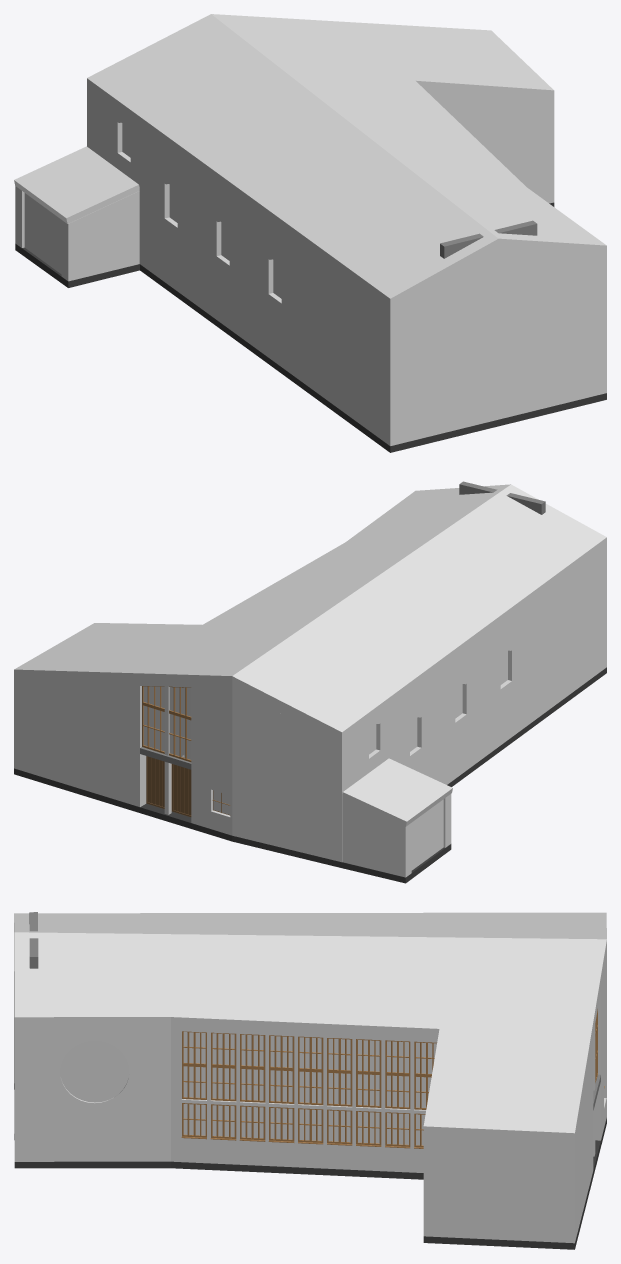
The model's file is Bethlehemskirche Modell Blender_03_FBX.fbx.
3 renders of one model, top to bottom at view 1: azimuth 30°, elevation 25°; view 2: azimuth 150°, elevation 25°; view 3: azimuth 270°, elevation 25°, orthographic. The views are drawn at different scales.
Visible parts, largest first — view 1: Kirchenwände.001, Kirchenwände.002, Cube.008, Cube.006, Fußboden Stein, Cube.009, Gemälde; view 2: Kirchenwände.002, Kirchenwände.001, Fußboden Stein, Cube.008, Cube.004, Glaswände.004, Stütze Portal.001, Cube.009, Glaswände.003, Stütze Portal, Gemälde; view 3: Kirchenwände.001, Kirchenwände.002, Fußboden Stein, Fensterglas Rosette, Fenster Südseite neu.020, Fenster Südseite neu.021, Fenster Südseite neu.023, Fenster Südseite neu.019, Fenster Südseite neu.022, Fenster Südseite neu.024, Fenster Südseite neu.025, Fenster Südseite neu.002 (+19 smaller).
Boxes of the visible parts, x1,y1,x2,y2 form: Kirchenwände.001: [87, 14, 606, 312]; Kirchenwände.002: [87, 82, 606, 445]; Cube.008: [14, 146, 139, 223]; Cube.006: [61, 191, 139, 281]; Fußboden Stein: [15, 202, 606, 452]; Cube.009: [24, 193, 61, 274]; Gemälde: [440, 220, 537, 258]; Kirchenwände.002: [14, 550, 606, 862]; Kirchenwände.001: [14, 484, 606, 744]; Fußboden Stein: [14, 667, 606, 883]; Cube.008: [342, 758, 452, 826]; Cube.004: [342, 797, 411, 877]; Glaswände.004: [142, 704, 191, 762]; Stütze Portal.001: [146, 756, 191, 817]; Cube.009: [411, 799, 443, 870]; Glaswände.003: [142, 686, 191, 718]; Stütze Portal: [164, 686, 171, 814]; Gemälde: [459, 481, 545, 514]; Kirchenwände.001: [14, 912, 606, 1146]; Kirchenwände.002: [14, 936, 606, 1243]; Fußboden Stein: [14, 1083, 606, 1249]; Fensterglas Rosette: [60, 1041, 129, 1102]; Fenster Südseite neu.020: [240, 1067, 265, 1102]; Fenster Südseite neu.021: [269, 1068, 294, 1103]; Fenster Südseite neu.023: [327, 1071, 352, 1106]; Fenster Südseite neu.019: [211, 1066, 236, 1101]; Fenster Südseite neu.022: [298, 1070, 323, 1105]; Fenster Südseite neu.024: [356, 1072, 381, 1107]; Fenster Südseite neu.025: [385, 1074, 410, 1109]; Fenster Südseite neu.002: [240, 1105, 265, 1140].
Bounding box in the file's own units: 2158 × 839 × 2448.
